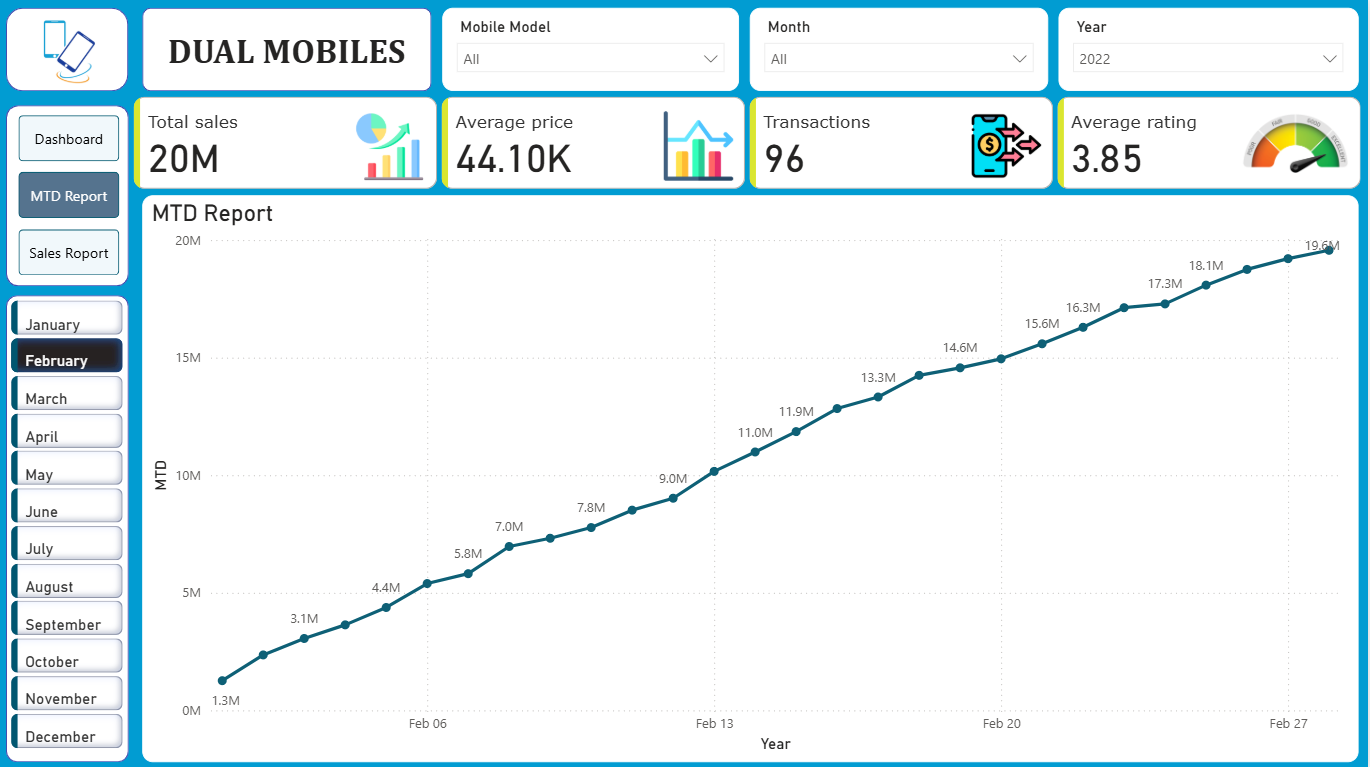

This screenshot's page, from the dashboard's own definition file:
{"tool":"powerbi","page":{"name":"MTD Report","canvas":[1280,720],"ordinal":1},"visuals":[{"type":"shape","box":[9.7,8.3,114.1,77.9],"z":0},{"type":"image","box":[0,0,136.3,98.8],"z":1000},{"type":"shape","box":[9.7,98.9,114.6,168.9],"z":2000},{"type":"shape","box":[9.7,276.3,114.6,435.5],"z":3000},{"type":"advancedSlicerVisual","fields":{"Values":["calender.Date.Variation.Date Hierarchy.Month"]},"box":[9.7,276.3,114.6,435.5],"z":4000},{"type":"cardVisual","fields":{"Data":["sales_data.Total_sales","sales_data.Avg_price","sales_data.Transactions","sales_data.Avg_rating"]},"box":[123.8,86.3,1156.2,96],"z":5000},{"type":"slicer","fields":{"Values":["sales_data.Mobile Model"]},"box":[416,8.3,276.9,77.9],"z":6000},{"type":"slicer","fields":{"Values":["calender.Date.Variation.Date Hierarchy.Month"]},"box":[702.6,8.3,278.3,77.9],"z":7000},{"type":"slicer","fields":{"Values":["calender.Date.Variation.Date Hierarchy.Year"]},"box":[990.6,8.3,279.7,77.9],"z":8000},{"type":"shape","box":[136.3,8.3,269.9,77.9],"z":9000},{"type":"textbox","box":[147.2,24.1,248.5,53.1],"z":10000},{"type":"lineChart","title":"MTD Report","fields":{"Y":["sales_data.MTD"],"Category":["calender.Date.Variation.Date Hierarchy.Year","calender.Date.Variation.Date Hierarchy.Quarter","calender.Date.Variation.Date Hierarchy.Month","calender.Date.Variation.Date Hierarchy.Day"]},"box":[136.3,183.4,1134.1,528.4],"z":11000},{"type":"pageNavigator","box":[20.5,108.6,94.1,149.6],"z":11001}]}

Visuals, with their boxes in screenshot pixels (x1, y1, x2, y2), scaled from the page's 1280x720 canvas onto the 1370x767 screenshot:
shape: (10, 9, 133, 92)
image: (0, 0, 146, 105)
shape: (10, 105, 133, 285)
shape: (10, 294, 133, 758)
advancedSlicerVisual - calender.Date.Variation.Date Hierarchy.Month: (10, 294, 133, 758)
cardVisual - sales_data.Total_sales x sales_data.Avg_price: (133, 92, 1369, 194)
slicer - sales_data.Mobile Model: (445, 9, 742, 92)
slicer - calender.Date.Variation.Date Hierarchy.Month: (752, 9, 1050, 92)
slicer - calender.Date.Variation.Date Hierarchy.Year: (1060, 9, 1360, 92)
shape: (146, 9, 435, 92)
textbox: (158, 26, 424, 82)
"MTD Report" lineChart: (146, 195, 1360, 758)
pageNavigator: (22, 116, 123, 275)
